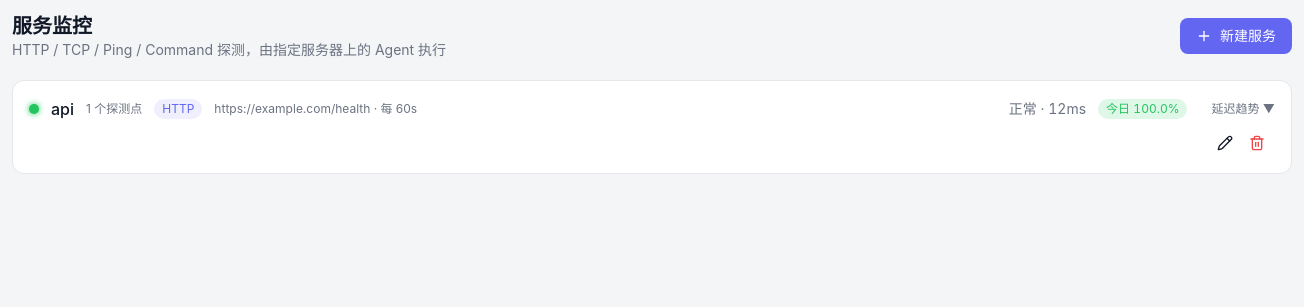
Test: Services page — delay quantile stats › shows p50/p95/p99/stddev/jitter when window samples are sufficient
Click the text "api" at (62,109), box [51,97,74,121]
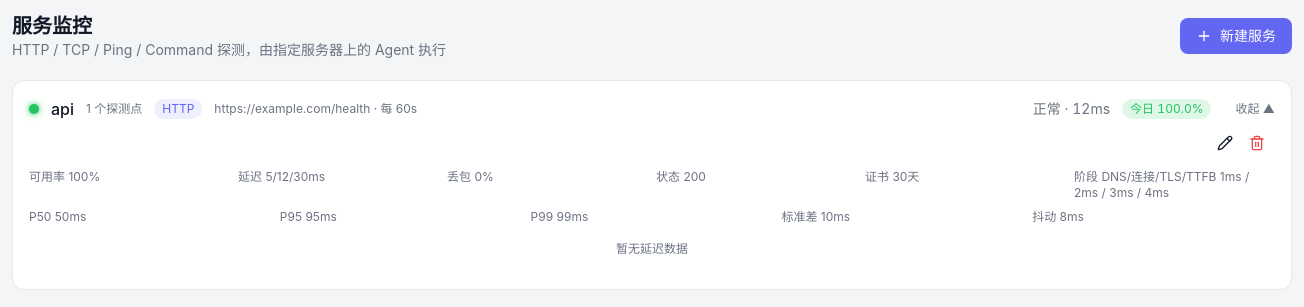
Check: the text "P50 50ms" is shown, box [29,209,86,224]
Check: the text "P95 95ms" is shown, box [280,209,337,224]
Check: the text "P99 99ms" is shown, box [531,209,588,224]
